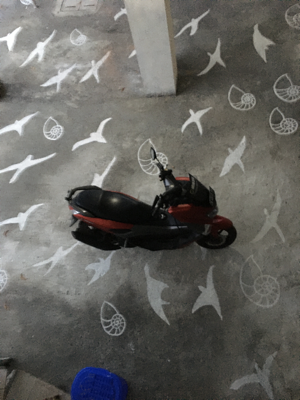moto: (63, 163, 242, 260)
